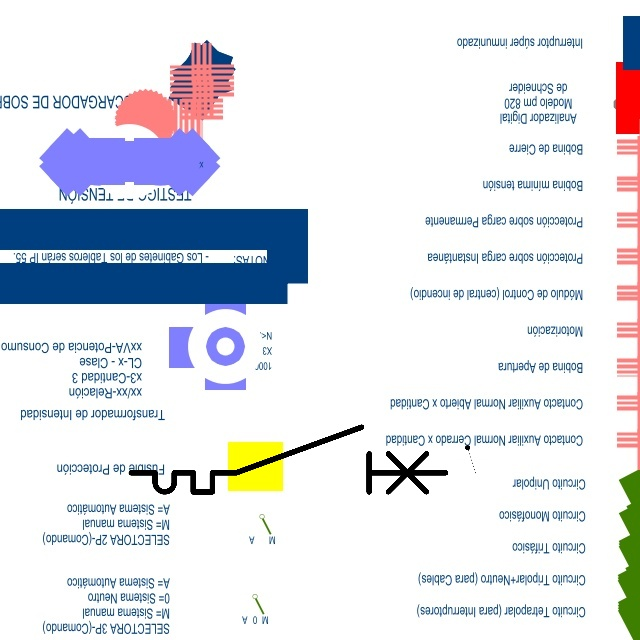interruptor_termomagnetico: (123, 419, 454, 500)
